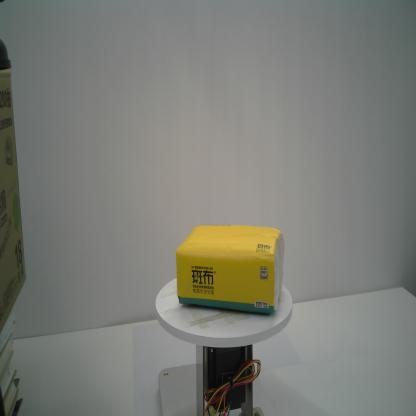Tissue: (174, 222, 286, 317)
